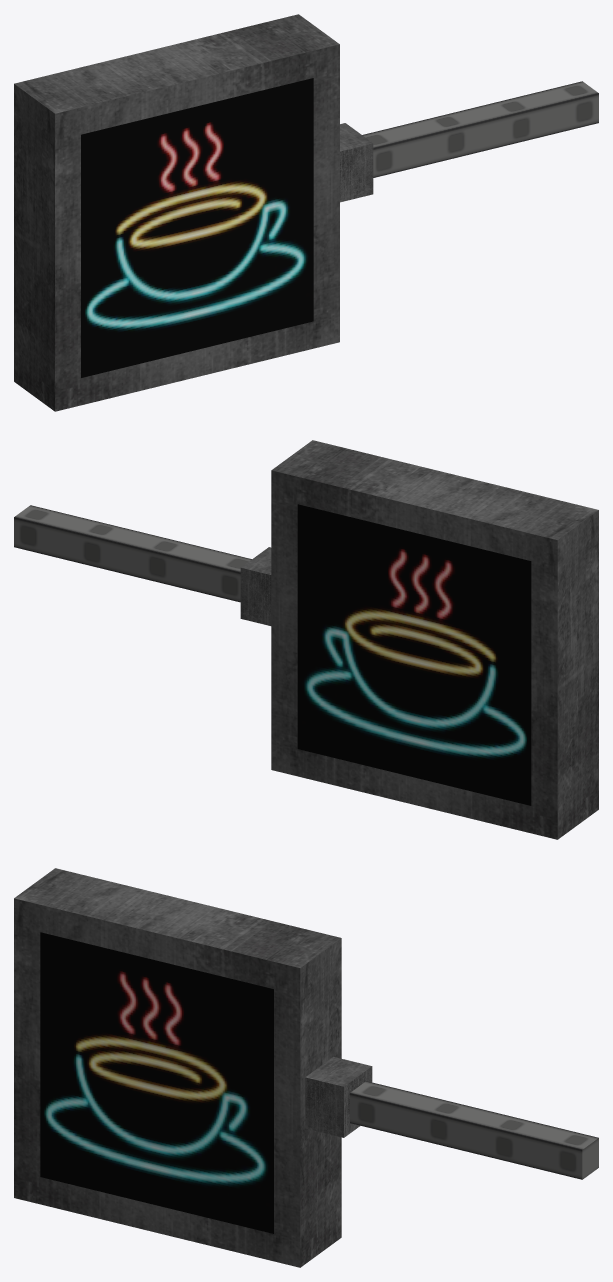
Rendered from sign board22.FBX.
3 views of the same model, one above another, from view 1: azimuth 30°, elevation 25°; view 2: azimuth 150°, elevation 25°; view 3: azimuth 330°, elevation 25° (orthographic).
Parts seen in each view (by area): view 1: sign board22; view 2: sign board22; view 3: sign board22.
Part boxes in pixels (x1,y1,x2,y2): sign board22: (14,14,598,411); sign board22: (14,440,598,839); sign board22: (14,868,598,1267).
Bounding box in the file's own units: 3.9 × 2 × 0.5.
